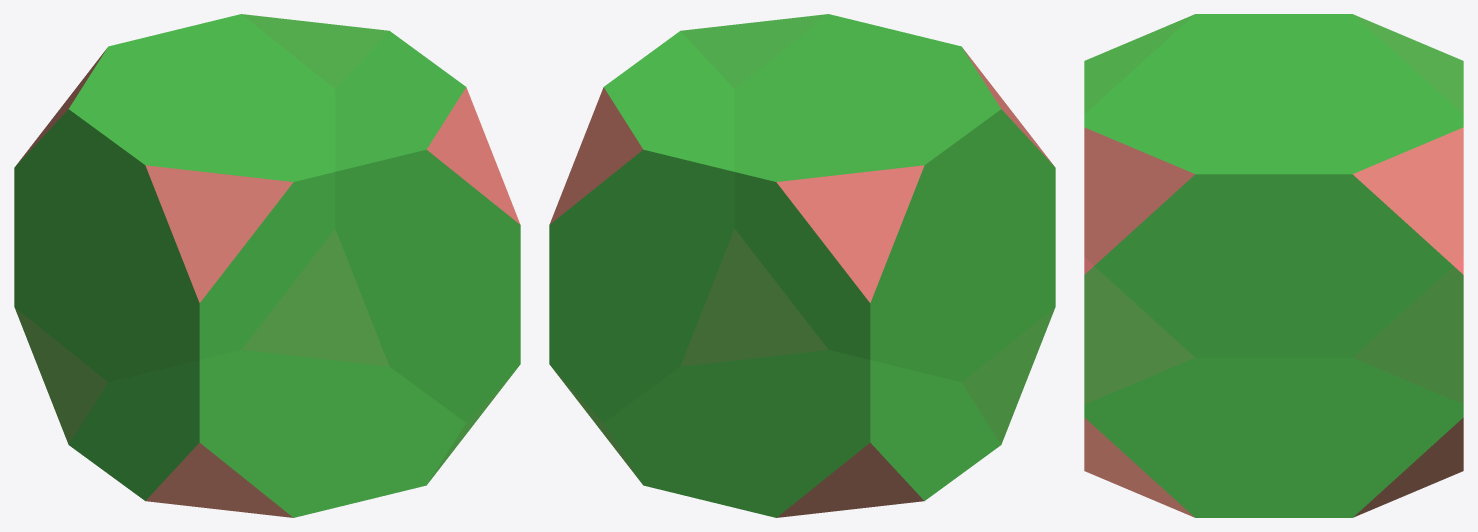
File: TruncatedCube.obj
The picture shows the model from 3 angles, left to right: view 1: azimuth 30°, elevation 25°; view 2: azimuth 150°, elevation 25°; view 3: azimuth 270°, elevation 25°; orthographic projection. The views are drawn at different scales.
Size of the model in its own units: 2.41 by 2.41 by 2.41.
